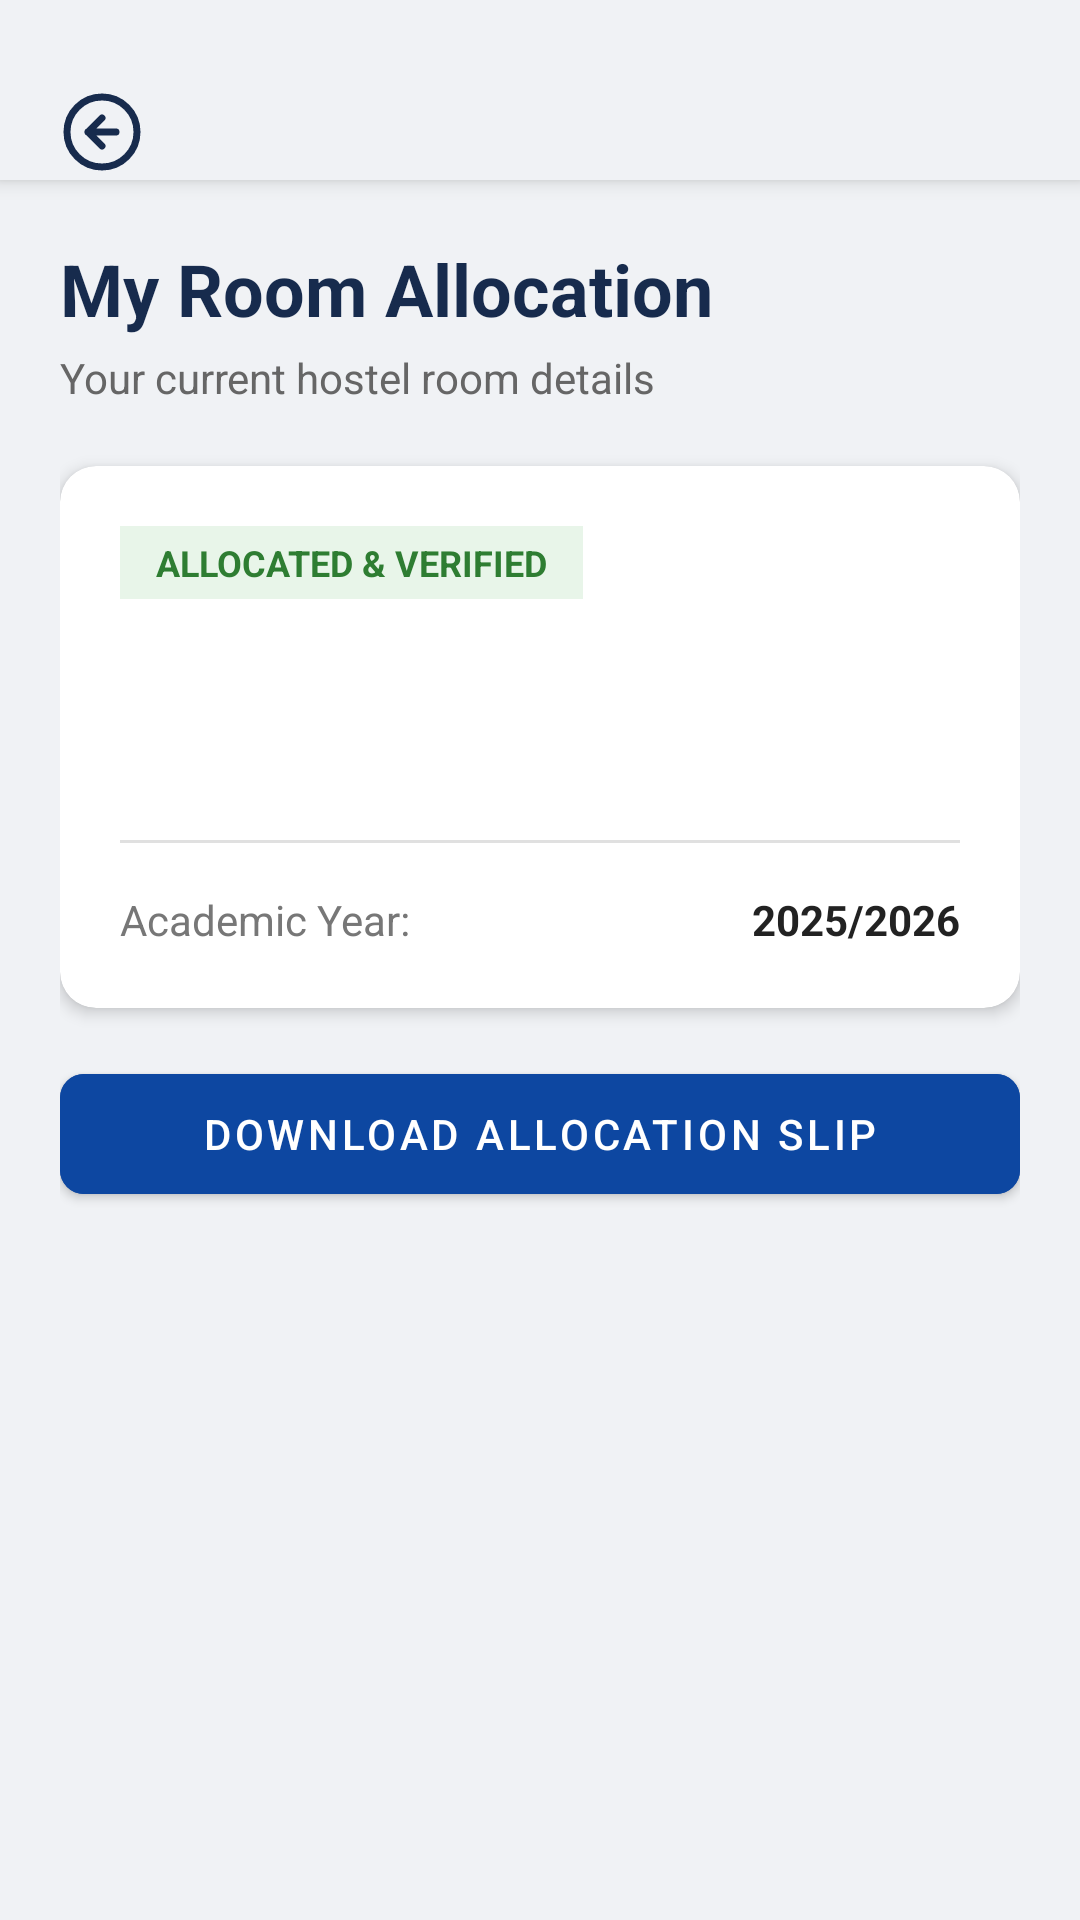

Icons on this 1080px×1920px Android screen, each with the point to tap as point (x, y):
Back: point (102, 132)
